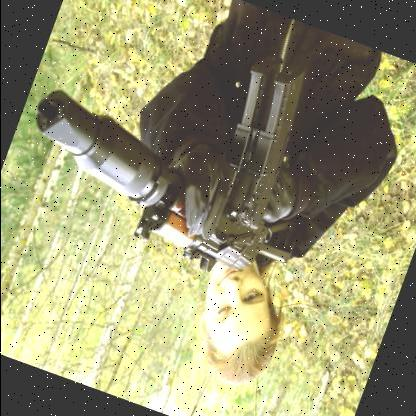rifle: (0, 28, 343, 308)
